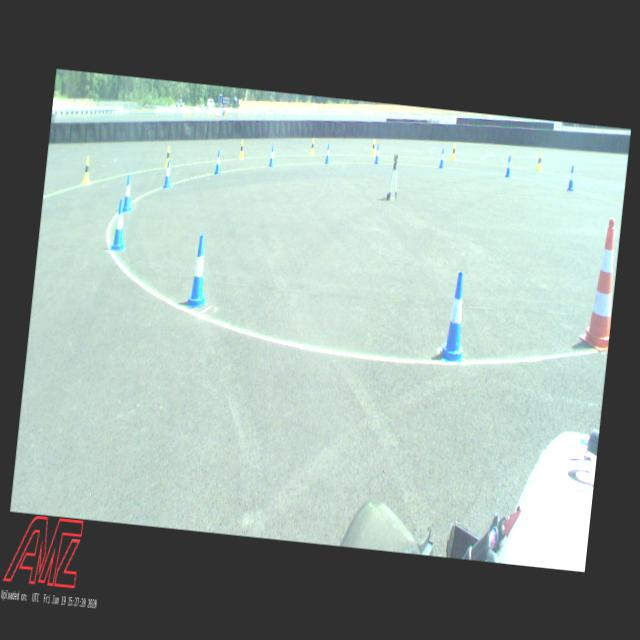blue_cone: (438, 270, 472, 363), (186, 234, 212, 308), (110, 198, 130, 252), (122, 174, 134, 212), (162, 160, 174, 188), (566, 165, 576, 191), (214, 150, 222, 174), (505, 155, 512, 178), (324, 144, 332, 164), (268, 146, 276, 166), (438, 148, 445, 168), (374, 144, 381, 164)
large_orange_cone: (578, 216, 621, 352)
yellow_cone: (82, 156, 93, 184), (450, 142, 458, 160), (536, 152, 544, 170), (164, 144, 170, 168), (239, 140, 245, 159), (310, 138, 316, 155), (371, 138, 376, 156)
